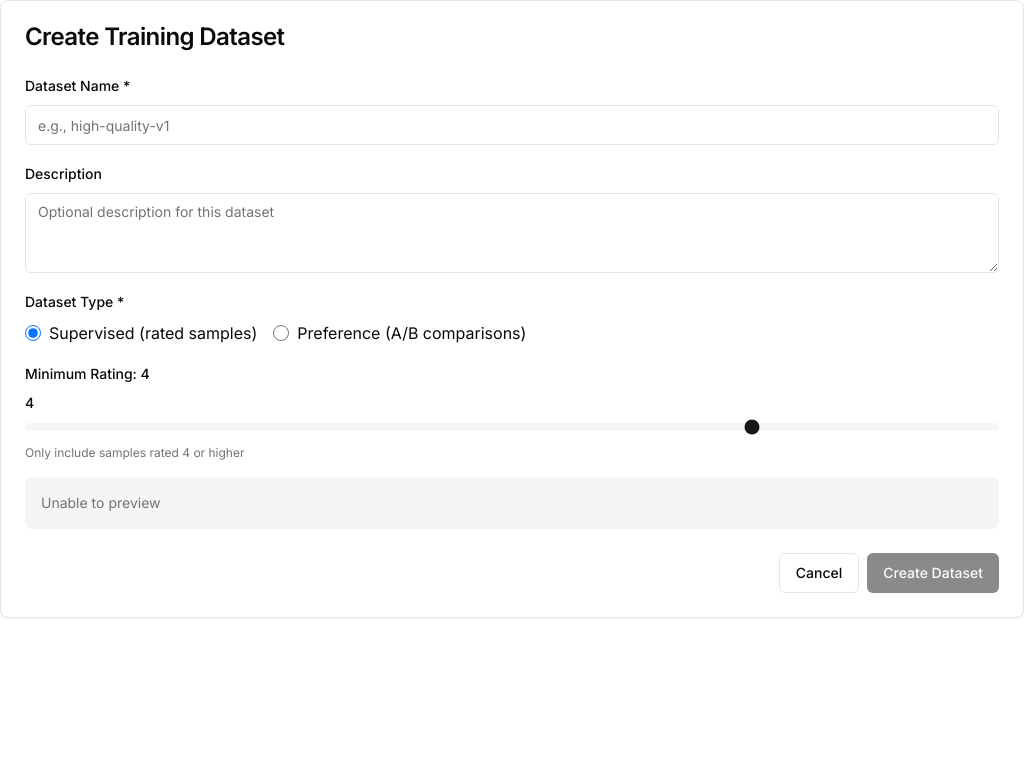
Test: DatasetCreateForm › shows error message on API failure
Type "Test Dataset" into the field with placeholder "e.g., high-quality-v1" at coordinates (512, 125), box [25,105,999,145]
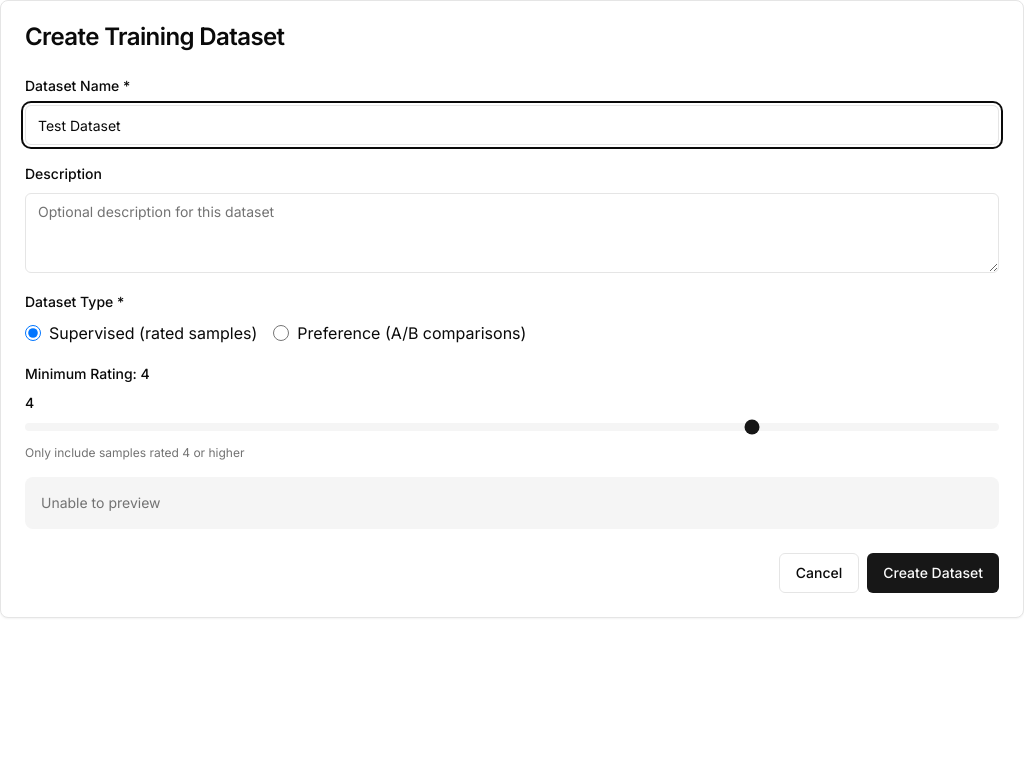
Click the button "Create Dataset" at coordinates (933, 573), box [867,553,999,593]
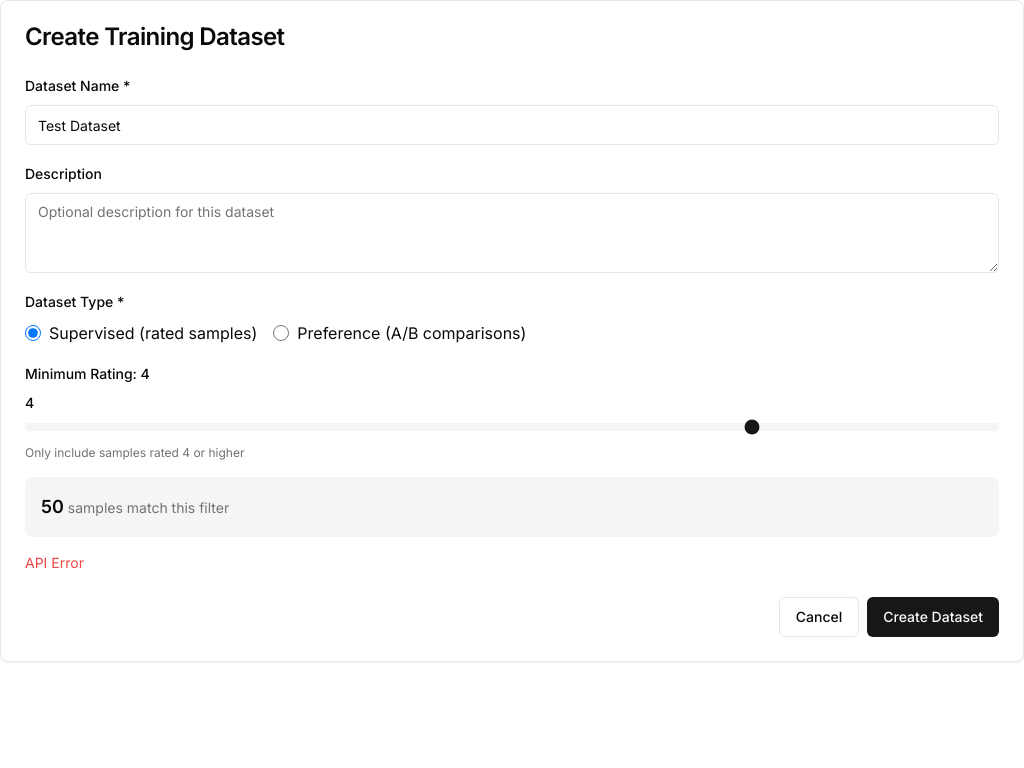
Now the text "API Error" is shown, box [25,554,84,571]
